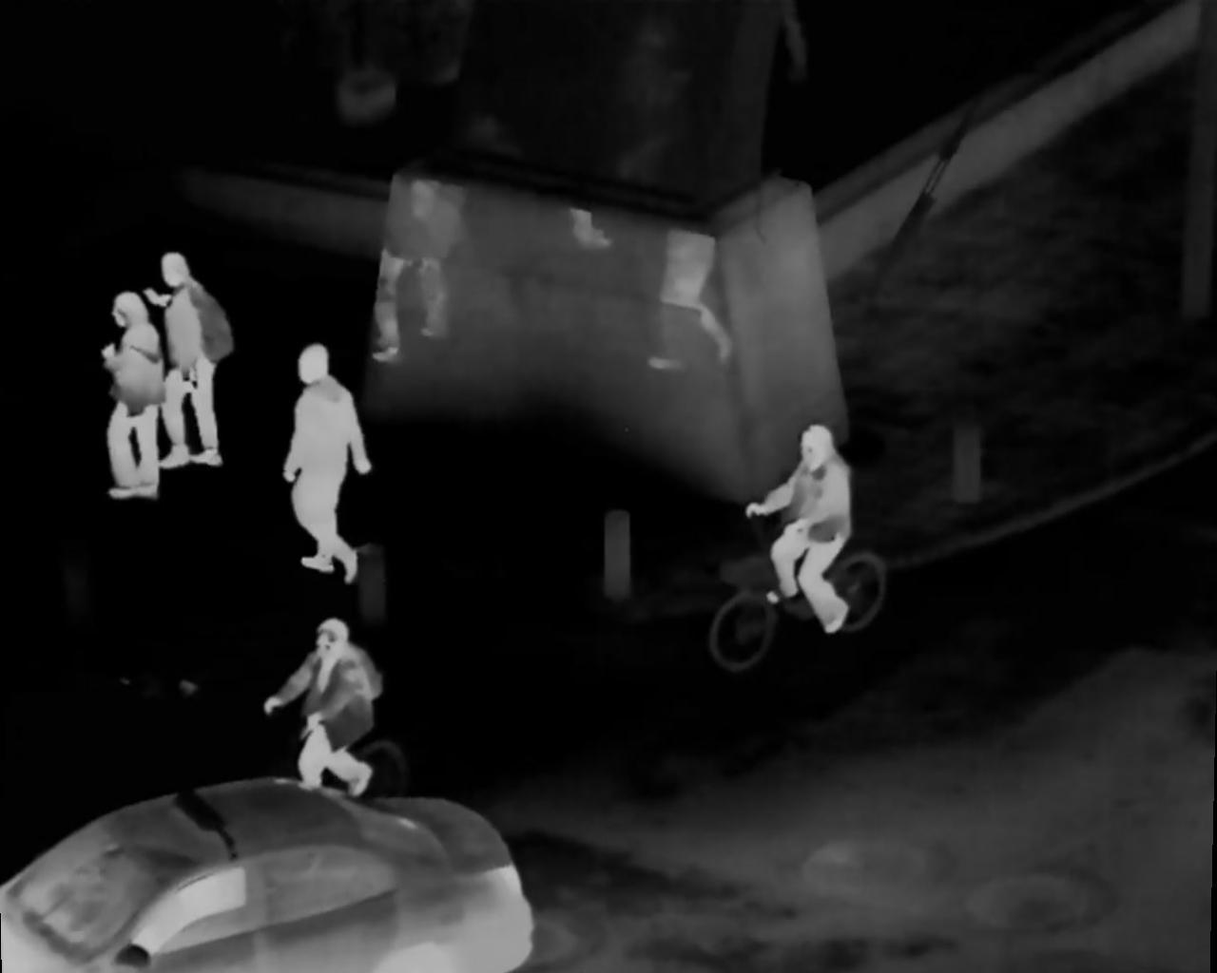person: (763, 427, 852, 637), (144, 257, 235, 461), (285, 345, 360, 586), (94, 293, 158, 499), (291, 616, 365, 793)
